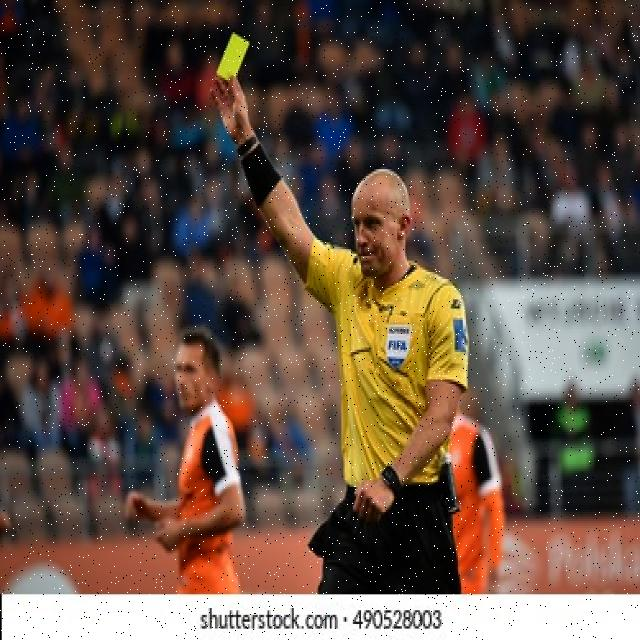yellow-card: (210, 27, 286, 203)
